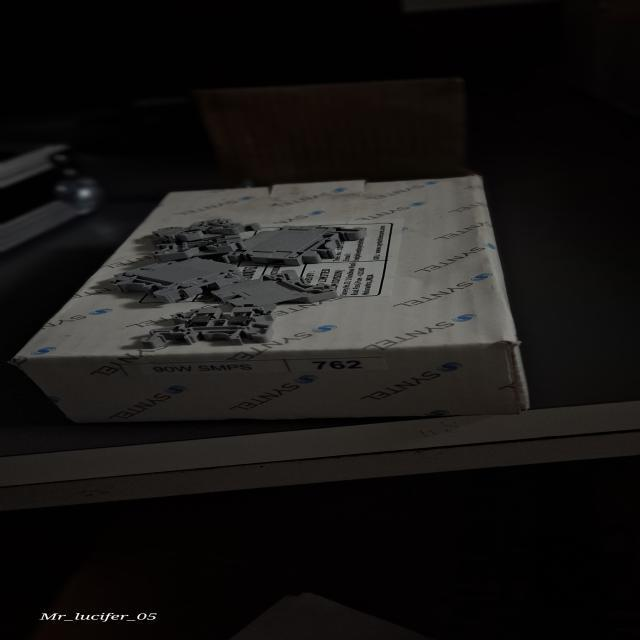Inverted: (208, 267, 346, 314)
Pass: (161, 300, 275, 352)
